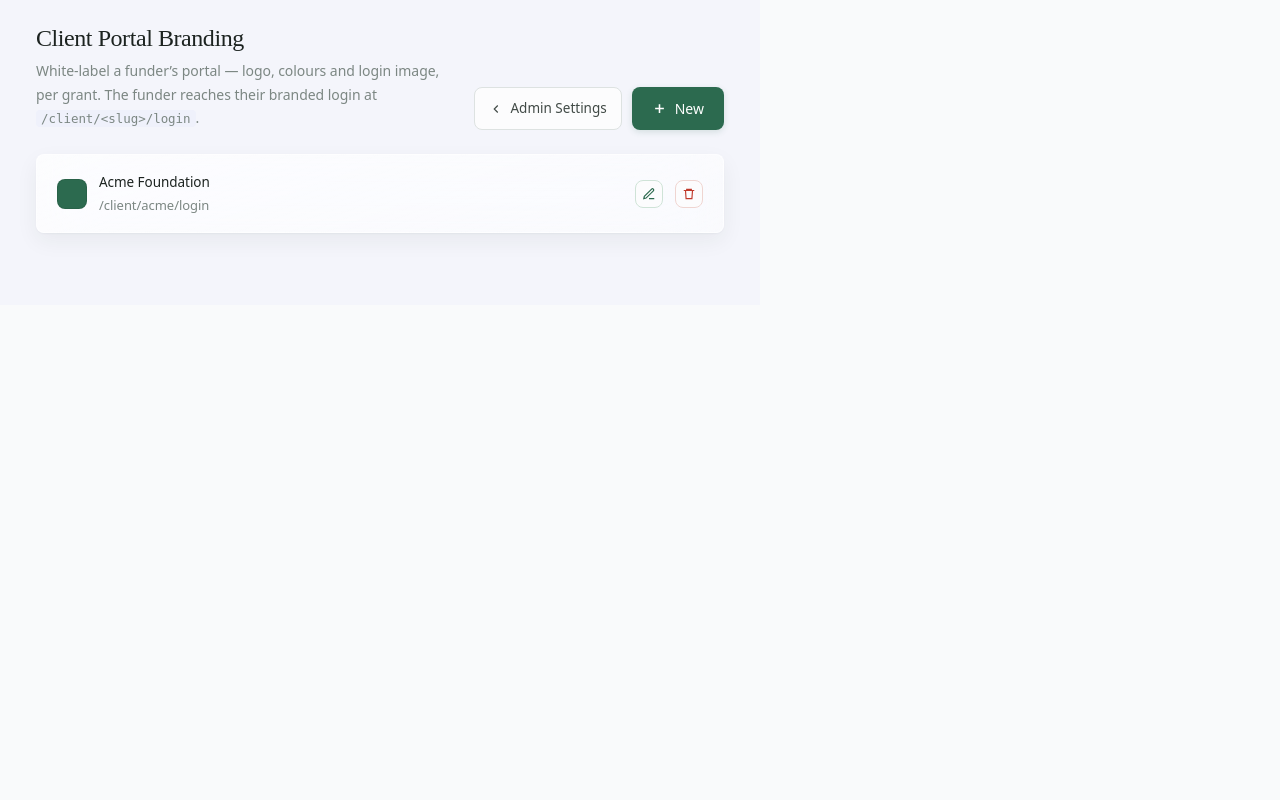
the link cannot be edited once a funder has signed in
The width and height of the screenshot is (1280, 800).
Click the button named "edit branding acme foundation" at (649, 194), box [635,180,663,208]
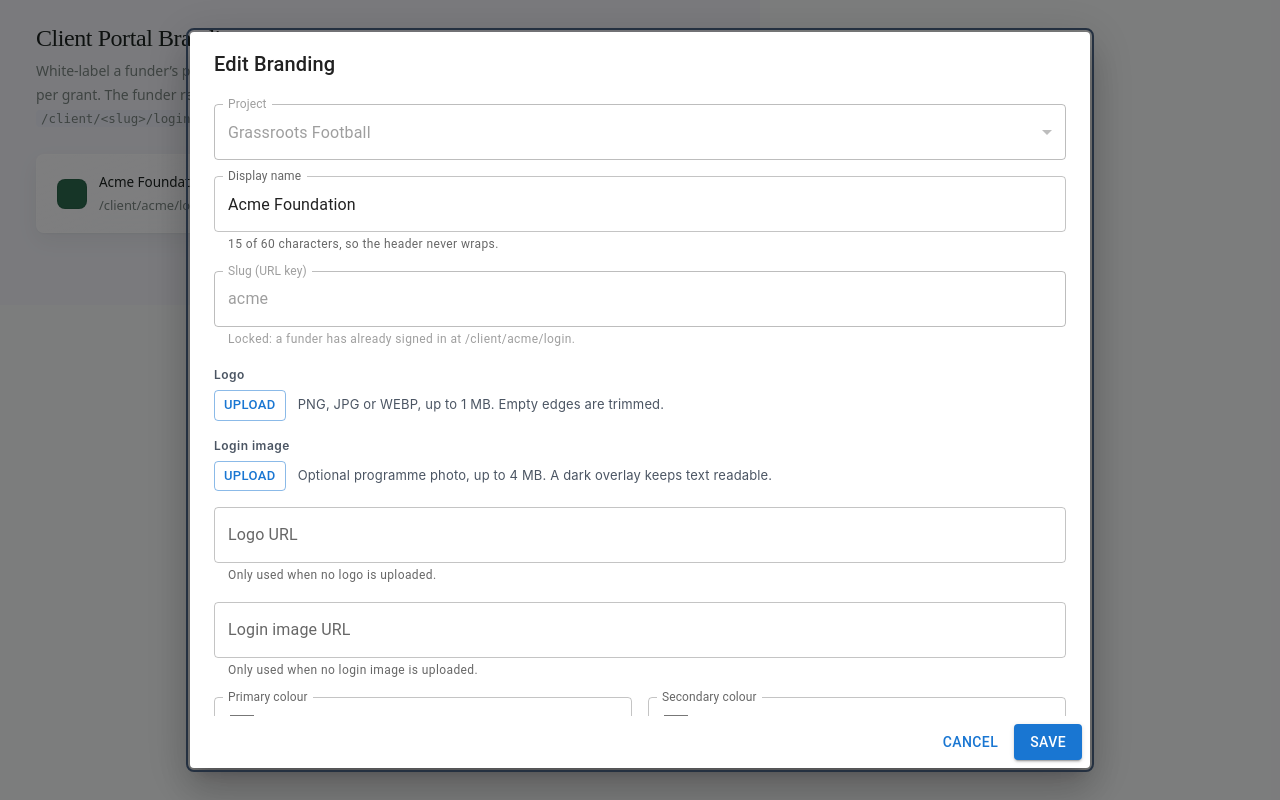
Check: the field labelled "Slug (URL key)" is disabled, box [214,271,1066,327]
Check: the text "Locked: a funder has already signed in" is shown, box [228,332,575,346]
